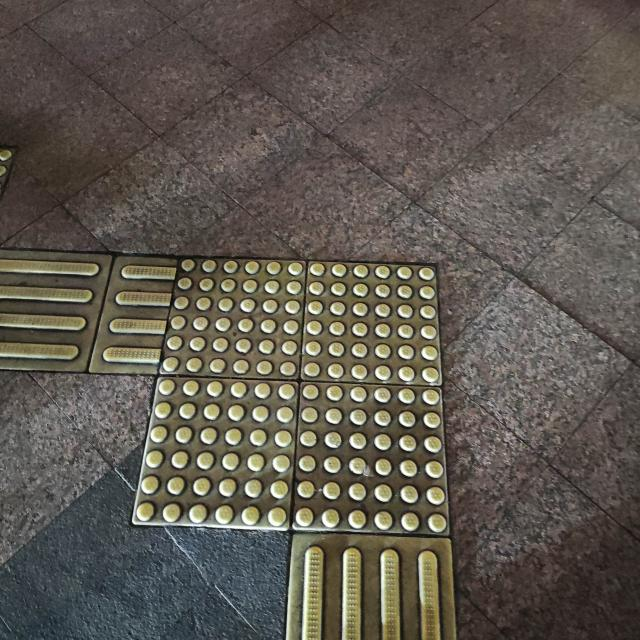kiri: (0, 236, 491, 639)
